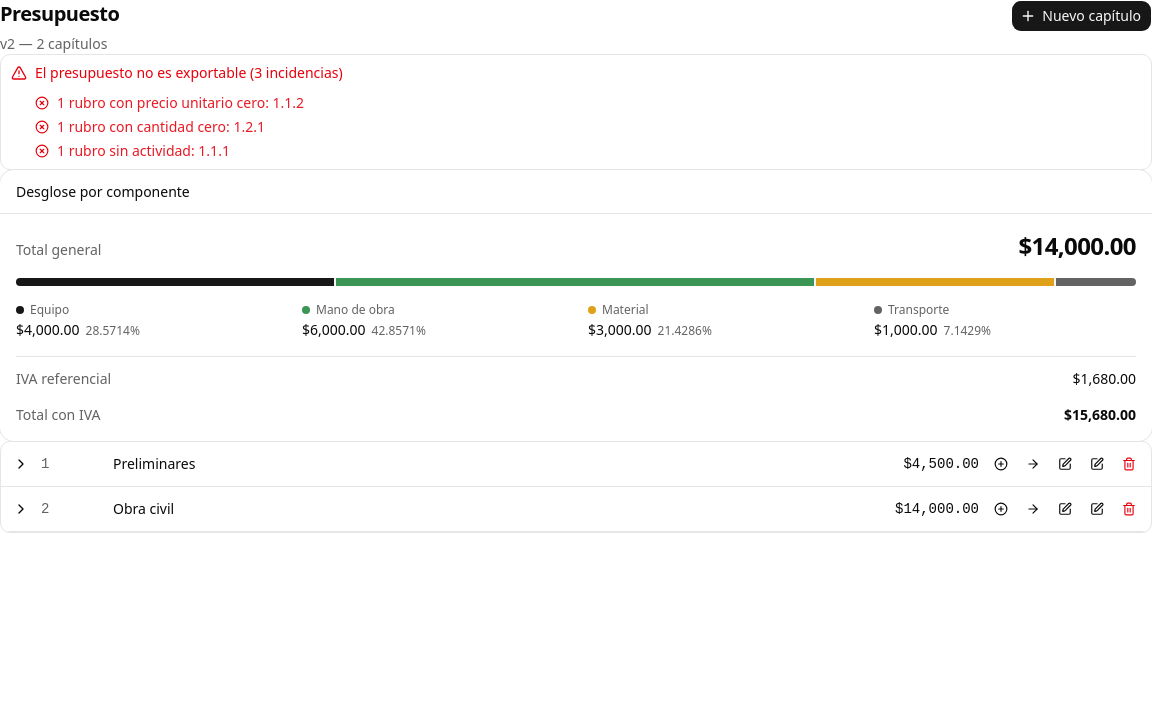
Test: PresupuestoPage › abre el diálogo de agregar rubro desde un capítulo
expect the text "v2 — 2 capítulos" is shown: met, box [0,34,119,54]
Click the button titled "Agregar rubro" next to "$4,500.00": (1033, 464) [1019,450,1047,478]
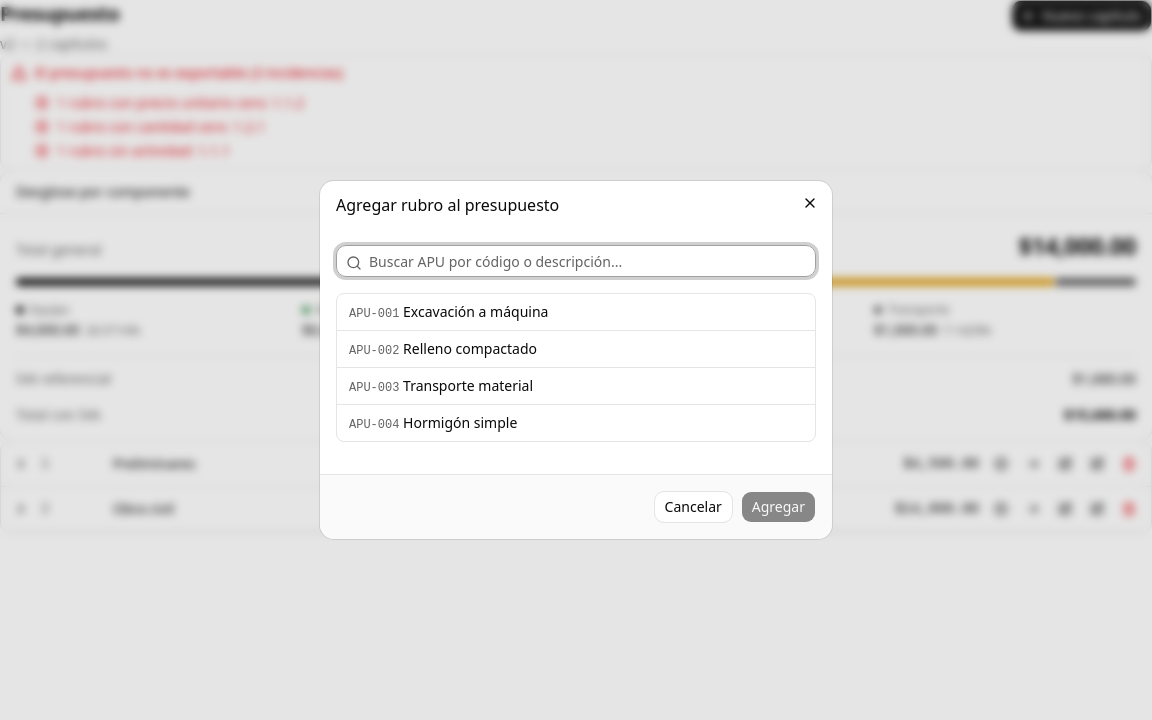
expect the heading "Agregar rubro al presupuesto" is shown: met, box [336,194,559,216]
